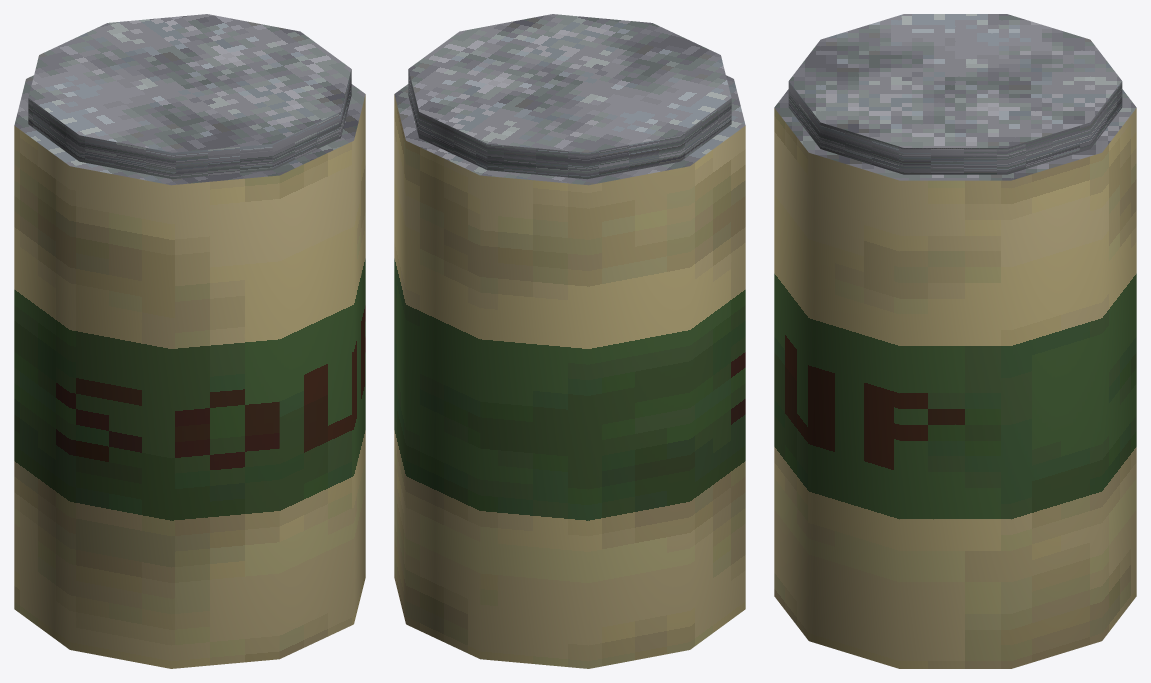
Rendered from can_soup.glb.
3 views of the same model, side by side, from view 1: azimuth 30°, elevation 25°; view 2: azimuth 150°, elevation 25°; view 3: azimuth 270°, elevation 25° (orthographic).
Visible parts, largest first — view 1: can_soup; view 2: can_soup; view 3: can_soup.
Boxes of the visible parts, x1=… form: can_soup: x1=14, y1=14, x2=365, y2=668; can_soup: x1=394, y1=14, x2=745, y2=668; can_soup: x1=774, y1=14, x2=1136, y2=668.
Bounding box in the file's own units: 0.0704 × 0.116 × 0.074.
1 material, 1 textured.
